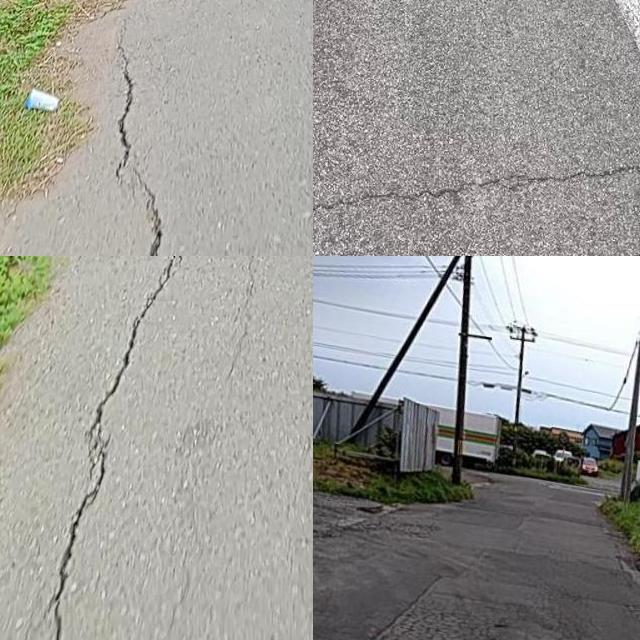Melintang: (313, 148, 640, 220)
Memanjang: (20, 256, 199, 640), (97, 16, 174, 256)
